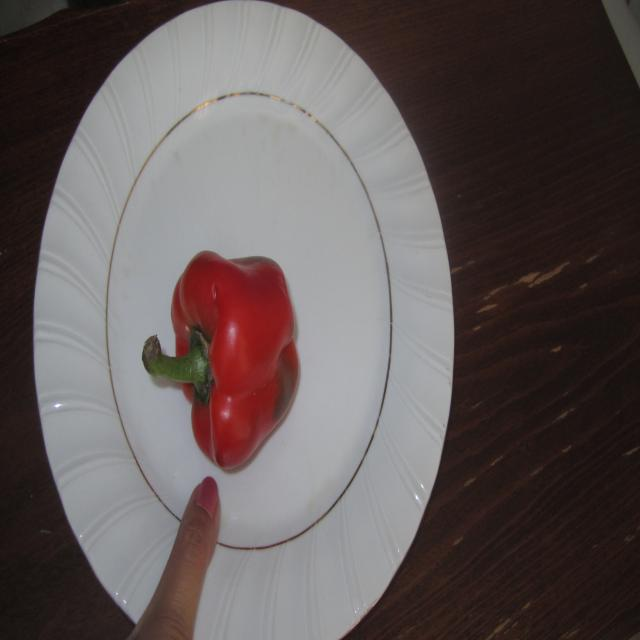Pepper: (141, 248, 300, 471)
